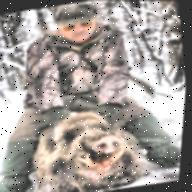boar: (23, 98, 166, 192)
